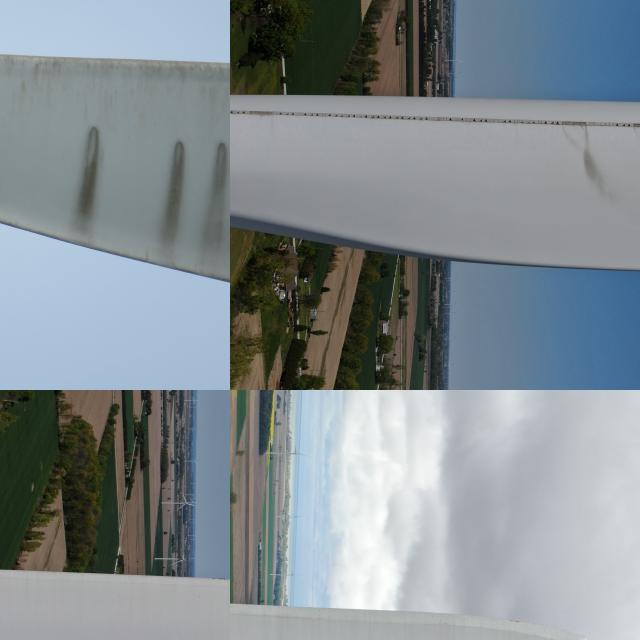damage: (560, 118, 586, 130), (419, 112, 443, 123), (586, 119, 608, 131), (246, 110, 278, 118), (296, 110, 324, 119), (633, 121, 639, 132), (634, 123, 639, 132)
